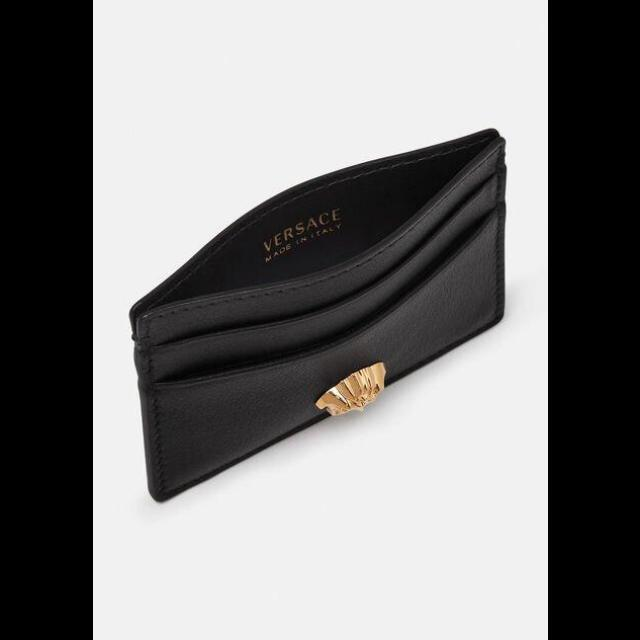wallet: (122, 123, 514, 505)
